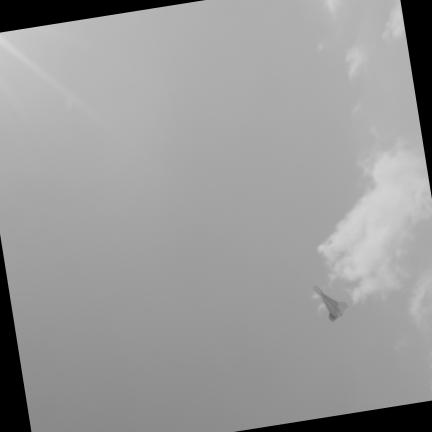Shahed: (313, 286, 348, 320)
